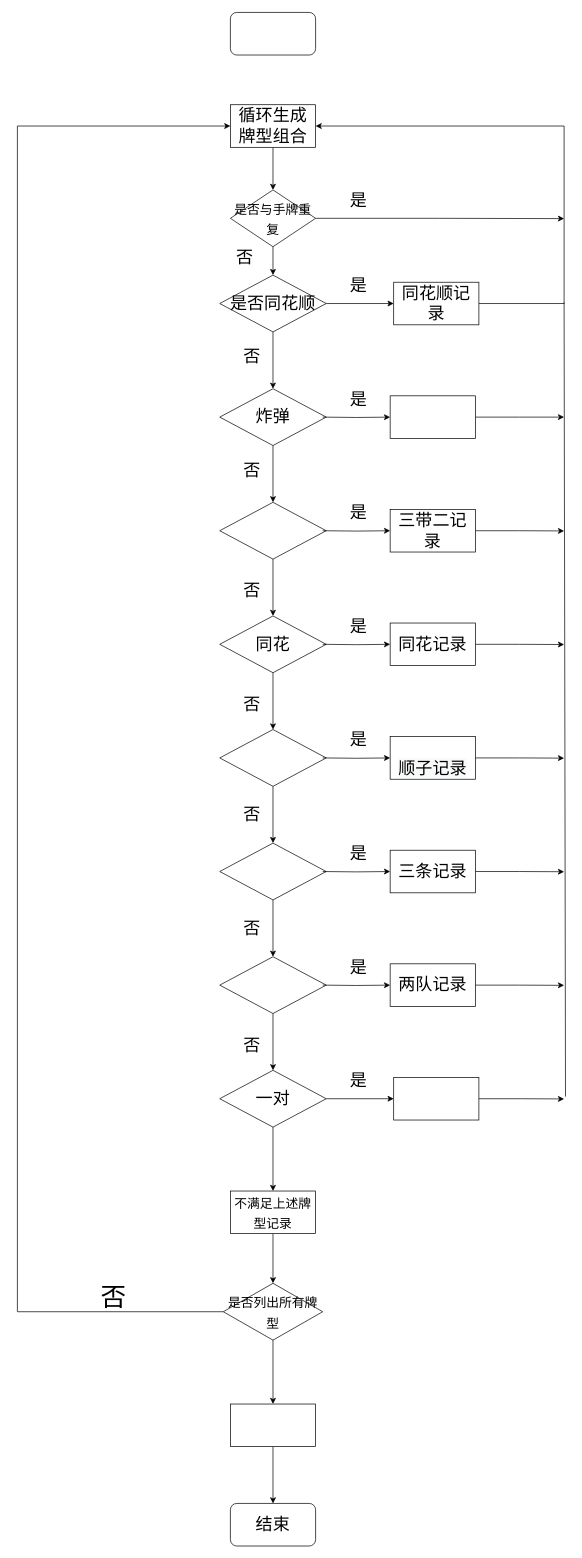
Image size: 582x1558. Some labels were removed from this diagram. The shapes that lost their labels are listed below. From the top down, each one's centre as x and y in pixels, then its label:
At pixel 273 33: "开始".
At pixel 432 416: "炸弹记录".
At pixel 272 530: "三带二".
At pixel 272 757: "顺子".
At pixel 272 871: "三条".
At pixel 272 985: "两对".
At pixel 436 1098: "一对记录".
At pixel 273 1425: "输出记录".
